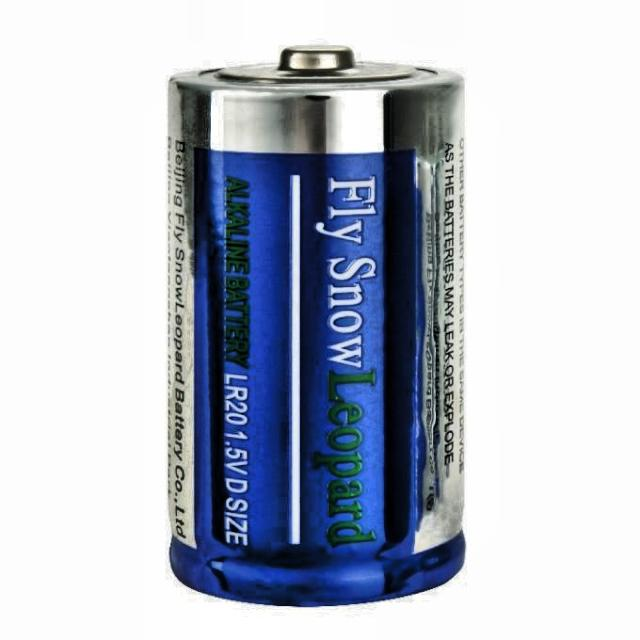Non-Valuable Waste - Batteries: (168, 46, 465, 605)
